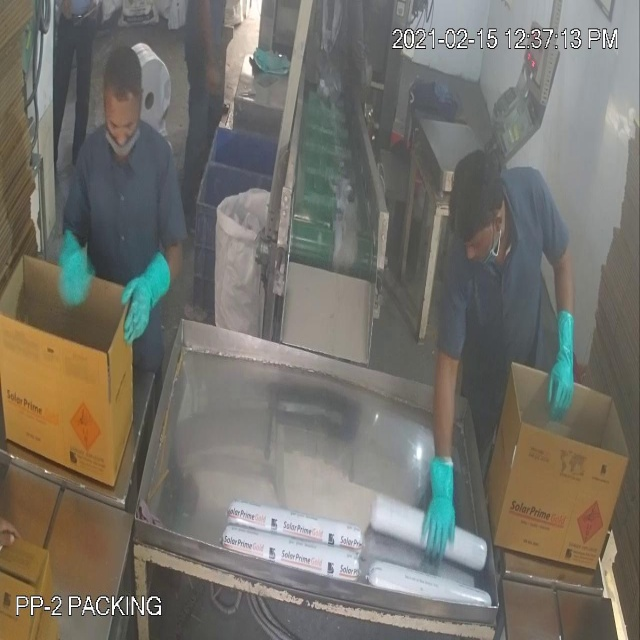Guantes: (409, 428, 466, 572), (116, 246, 183, 353), (535, 303, 590, 420), (46, 227, 99, 303)
Sin_guantes: (193, 1, 229, 106)
